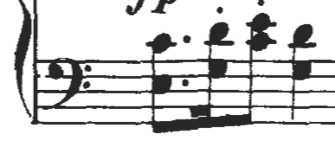bass_clef: (41, 53, 100, 122)
